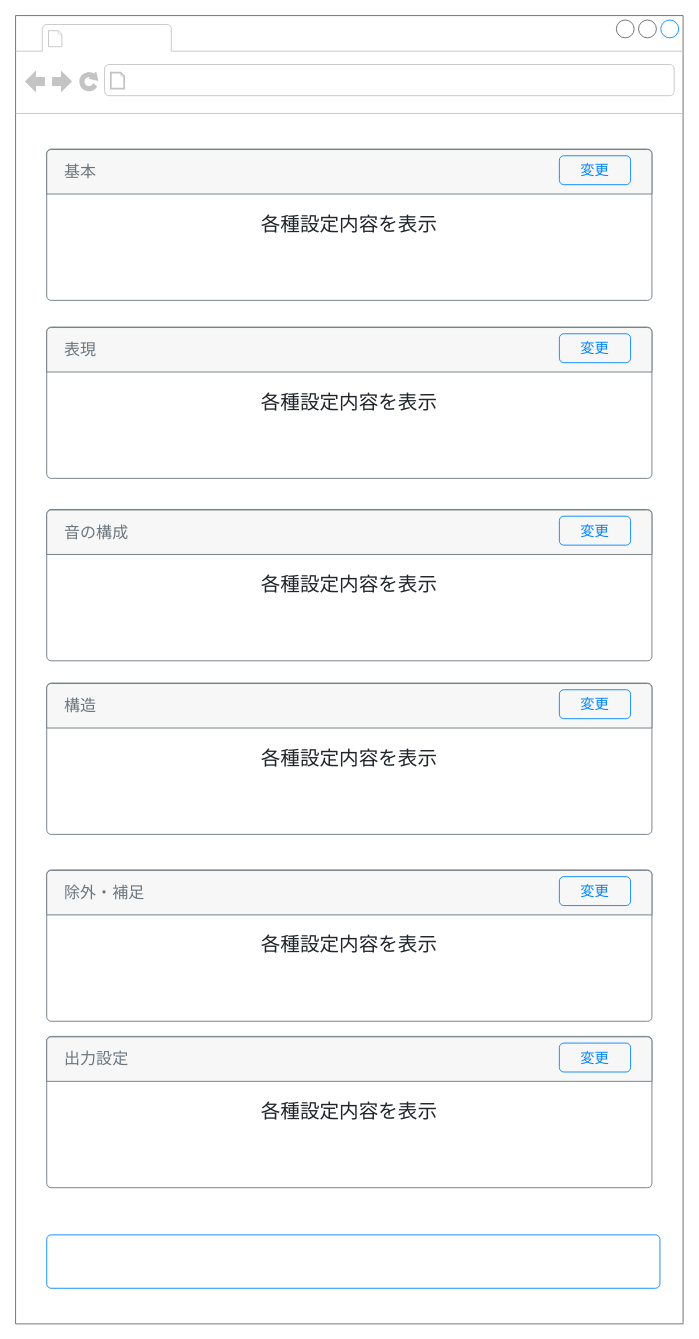
This 699x1339 diagram has some shape labels left out. Here are the shapes that lost their labels. From the top down, the box of each, then its label:
(68, 25, 167, 49): Page 1
(130, 68, 354, 92): https://localhost/
(46, 1234, 660, 1288): 以上の設定を元にチャット系AIに渡すプロンプトを作成する
